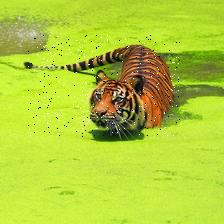tiger: (27, 35, 180, 137)
